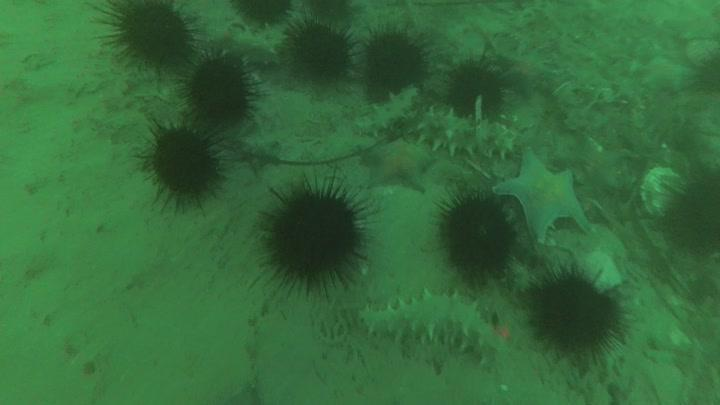urchin: (254, 171, 373, 300), (520, 263, 626, 366), (139, 116, 232, 206), (427, 186, 515, 277), (94, 2, 198, 67), (178, 51, 254, 119), (360, 28, 431, 90), (290, 11, 357, 75), (445, 52, 511, 114), (227, 1, 295, 29)
